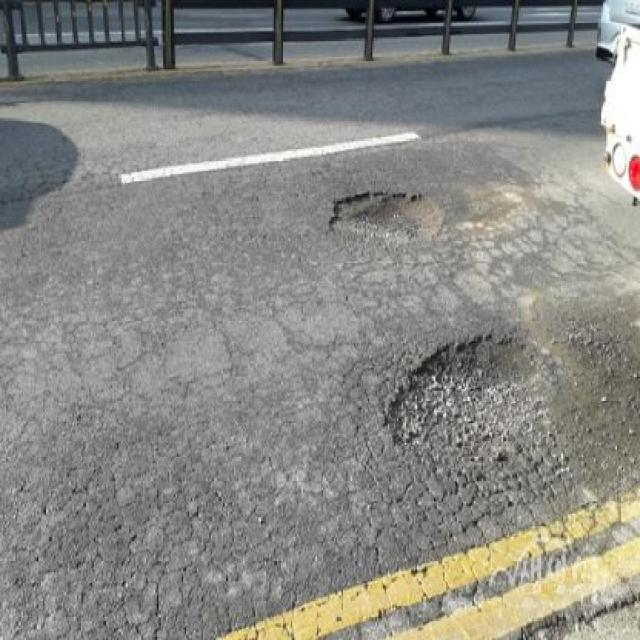Pothole: (381, 316, 576, 498), (325, 181, 446, 245)
